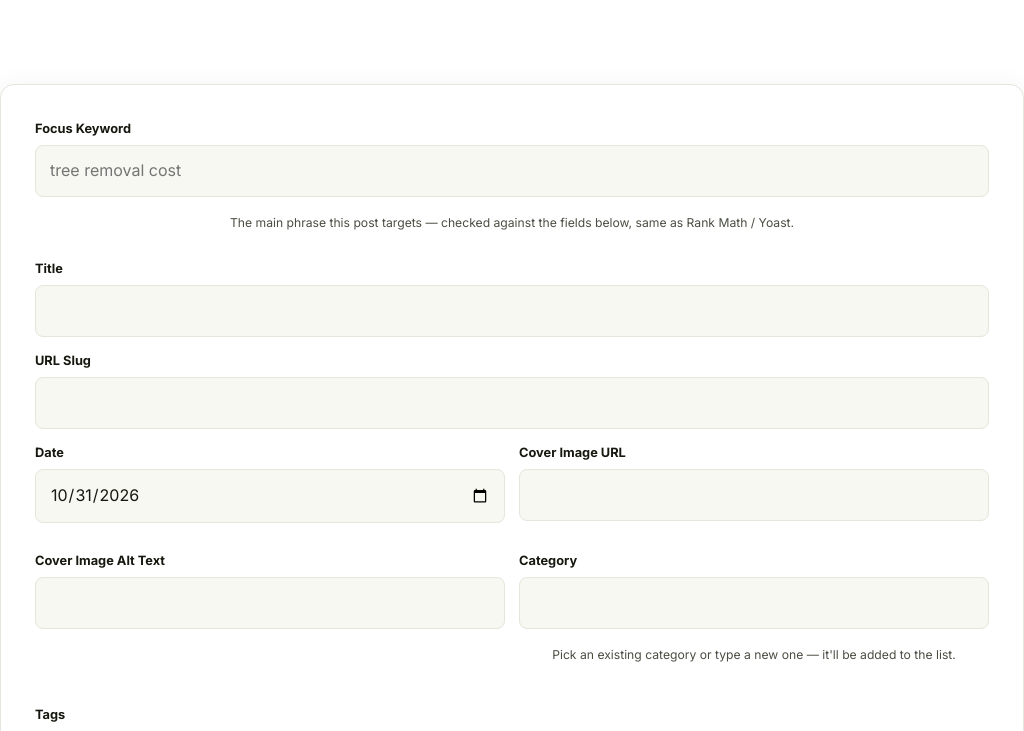
Test: BlogPostForm auto-slug behavior › auto-fills the URL Slug field from the Title field when slugEditable and untouched
The image size is (1024, 731).
In the field labelled "Title": (512, 311) [35, 285, 989, 337], type "My Great Post"
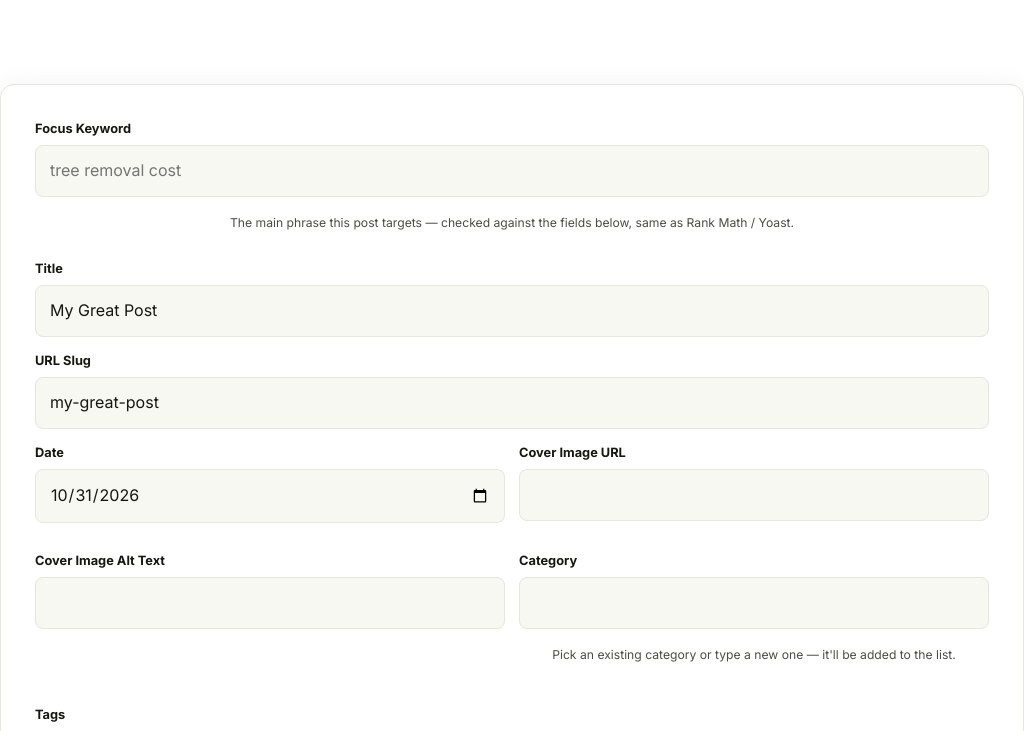
Expected: the field labelled "URL Slug" holds "my-great-post", [35, 377, 989, 429]
